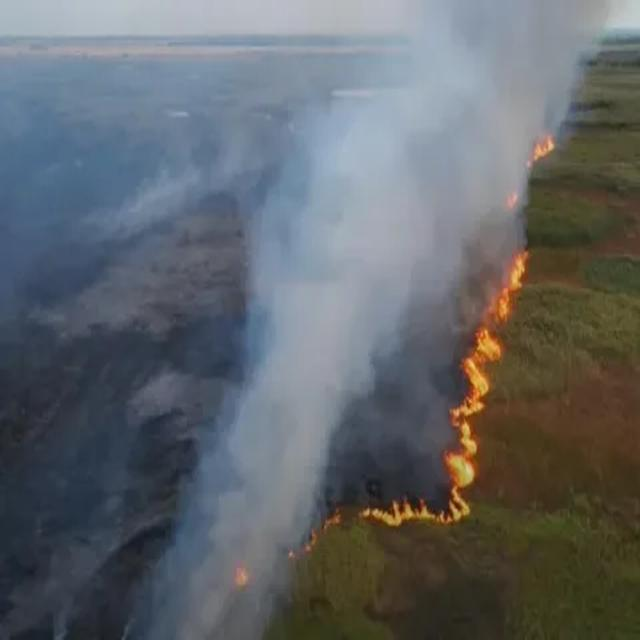Smoke: (148, 0, 608, 640)
